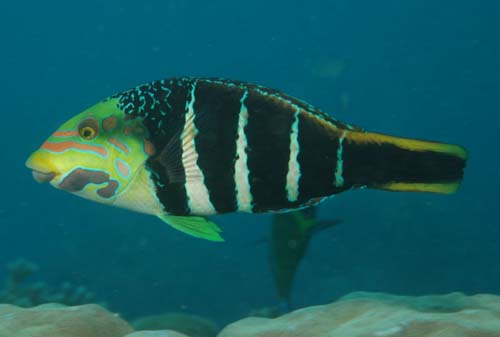fish: (25, 76, 468, 243)
